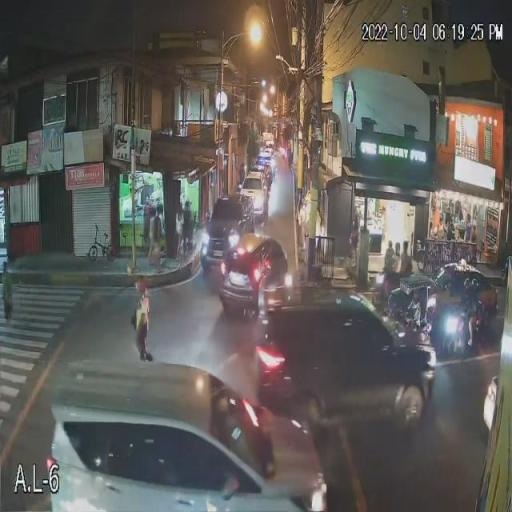helmet: (463, 278, 471, 290), (472, 278, 478, 290)
motorcycle: (434, 308, 489, 359)
rider: (452, 275, 483, 332)
